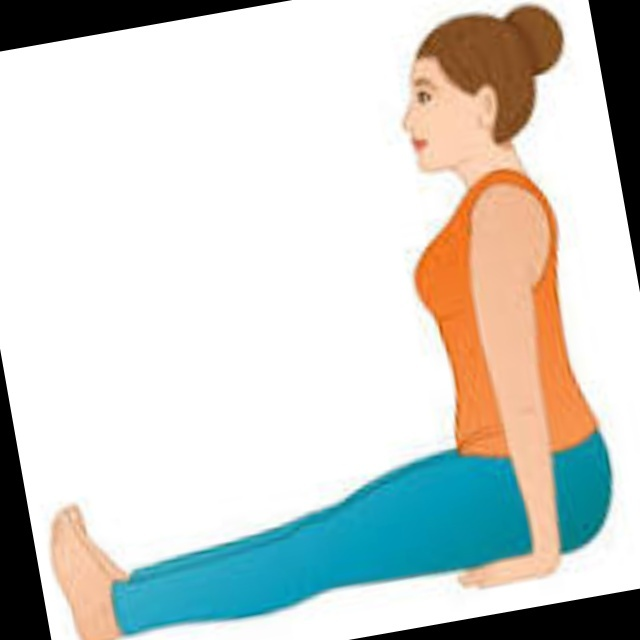Staff_Pose: (47, 13, 615, 636)
